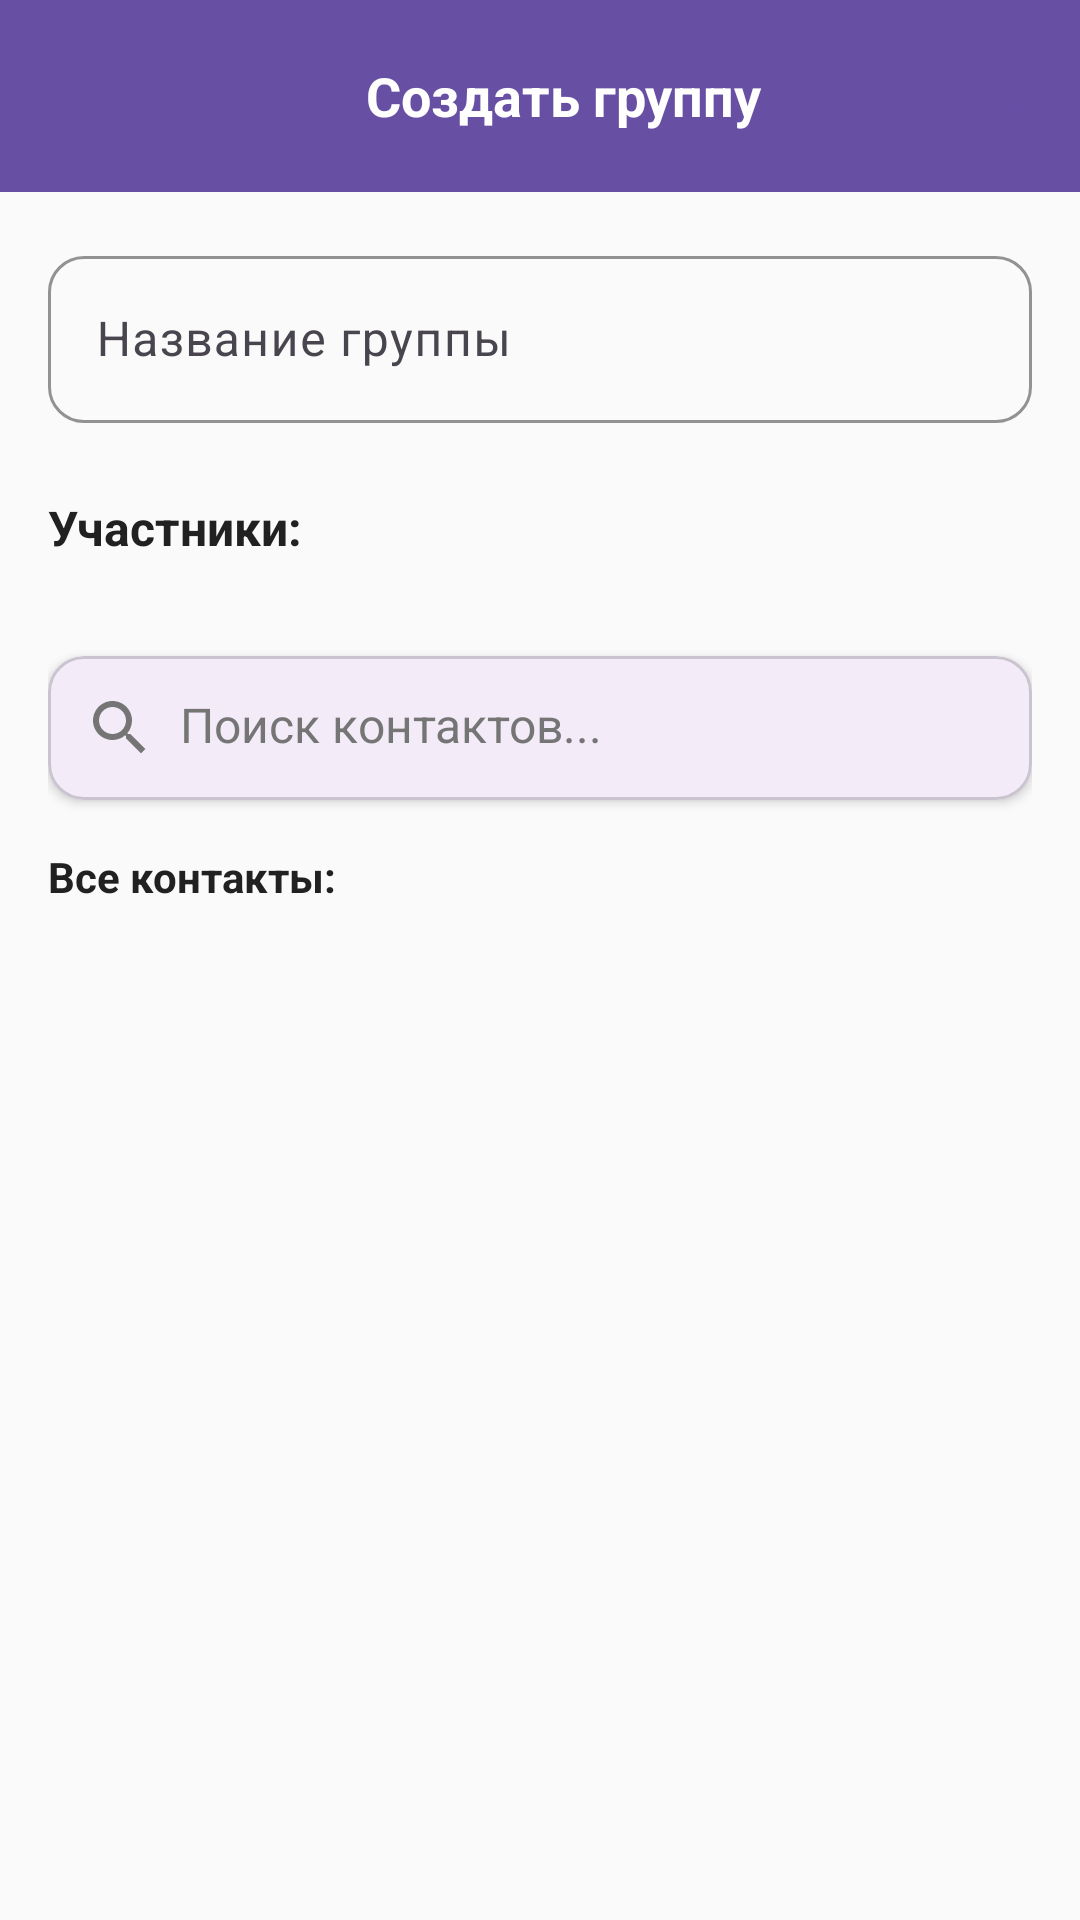

Named icons in this screenshot (1080*1920) and their bounding boxes, (x1, y1, x2, y2):
search: (93, 701, 145, 753)
